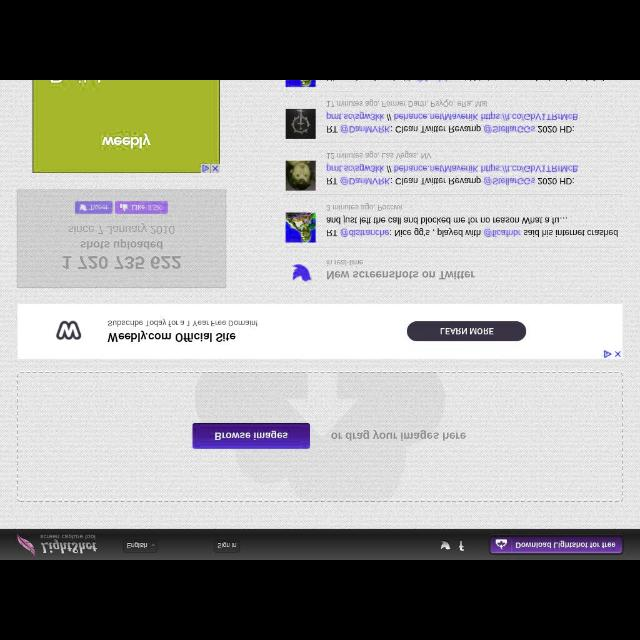button: (492, 538, 511, 552)
icon: (496, 539, 508, 549), (440, 540, 450, 550), (120, 203, 128, 211), (458, 541, 464, 551), (78, 203, 85, 210), (151, 542, 155, 548)
iframe: (19, 304, 622, 358), (34, 81, 218, 173)
image: (15, 532, 97, 554), (286, 213, 316, 243), (284, 110, 316, 138), (286, 162, 316, 190), (293, 264, 313, 282), (286, 81, 314, 87)
spinner: (124, 538, 158, 552)
text: (326, 214, 618, 236), (324, 164, 580, 186), (326, 112, 578, 134), (65, 254, 182, 270), (327, 270, 475, 280), (332, 430, 466, 440), (326, 100, 488, 108), (68, 223, 176, 234), (327, 150, 433, 160), (326, 202, 404, 212), (214, 430, 288, 440), (80, 242, 164, 250), (516, 542, 616, 548), (326, 258, 364, 266), (131, 204, 163, 210), (128, 541, 148, 549), (90, 202, 108, 210), (218, 543, 236, 549)
textbutton: (192, 424, 310, 448), (511, 538, 621, 552), (116, 202, 170, 212), (76, 200, 112, 213), (216, 540, 238, 552)
toolbar: (1, 529, 639, 559)
